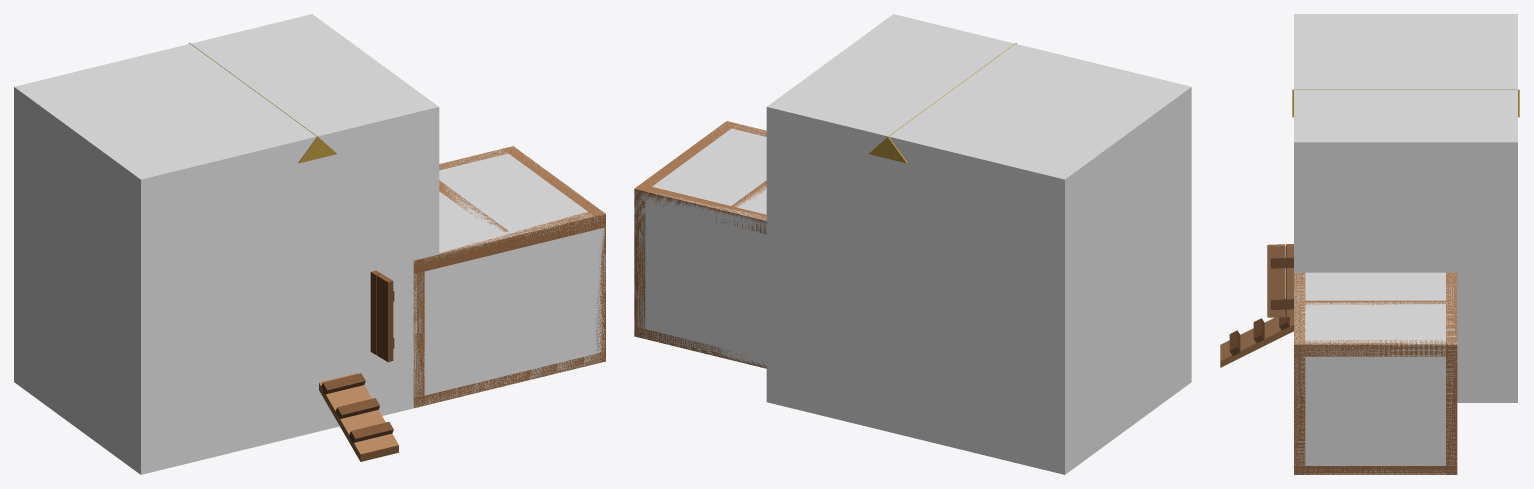
Rendered from FMS_Coop.fbx.
3 renders of one model, left to right at view 1: azimuth 30°, elevation 25°; view 2: azimuth 150°, elevation 25°; view 3: azimuth 270°, elevation 25°, orthographic. The views are drawn at different scales.
Parts seen in each view (by area): view 1: FMS_Coop_Col, FMS_Coop_Run_Col, FMS_Coop_LOD0, FMS_Coop_Door; view 2: FMS_Coop_Col, FMS_Coop_Run_Col, FMS_Coop_LOD0; view 3: FMS_Coop_Col, FMS_Coop_Run_Col, FMS_Coop_LOD0, FMS_Coop_Door.
Boxes of the visible parts, <box> form: FMS_Coop_Col: <box>14,14,439,474</box>; FMS_Coop_Run_Col: <box>413,147,605,407</box>; FMS_Coop_LOD0: <box>189,43,605,461</box>; FMS_Coop_Door: <box>370,270,394,362</box>; FMS_Coop_Col: <box>766,14,1191,474</box>; FMS_Coop_Run_Col: <box>634,122,766,367</box>; FMS_Coop_LOD0: <box>634,43,1016,368</box>; FMS_Coop_Col: <box>1294,14,1517,402</box>; FMS_Coop_Run_Col: <box>1294,272,1457,474</box>; FMS_Coop_LOD0: <box>1220,89,1519,474</box>; FMS_Coop_Door: <box>1267,244,1293,317</box>.
Size of what is drawn, in the model's own units: 2.9 by 1.76 by 1.83.
2 materials, 2 textured.
